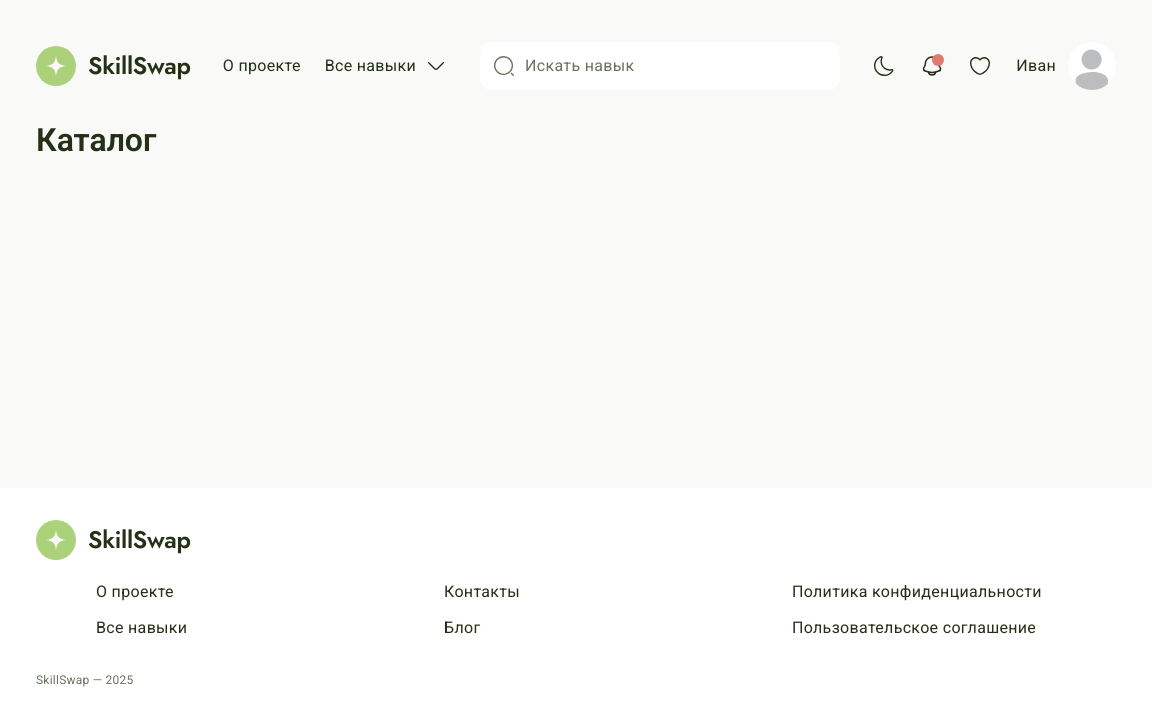
it: MainLayout — уведомления › до открытия панели загружает точку, сохраняет прочтение и очистку после перезагрузки
The image size is (1152, 720).
Later steps or results of the test are not shown.
Expected: the element "Уведомления" is not shown
Step 1. Click the button named "Уведомления, есть новые" → (932, 66), box [920,54,944,78]
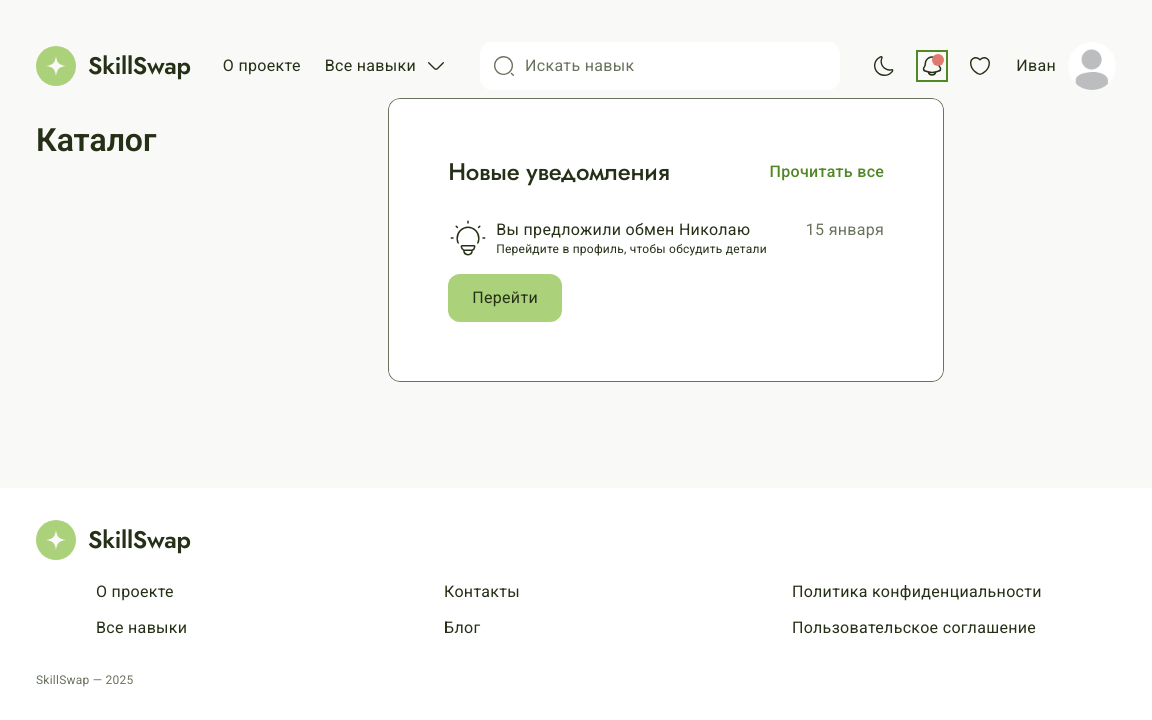
Expected: the text "Вы предложили обмен Николаю" is shown, [496,218,767,242]
Step 2. Click the button "Прочитать все" → (827, 172), box [770,160,884,184]
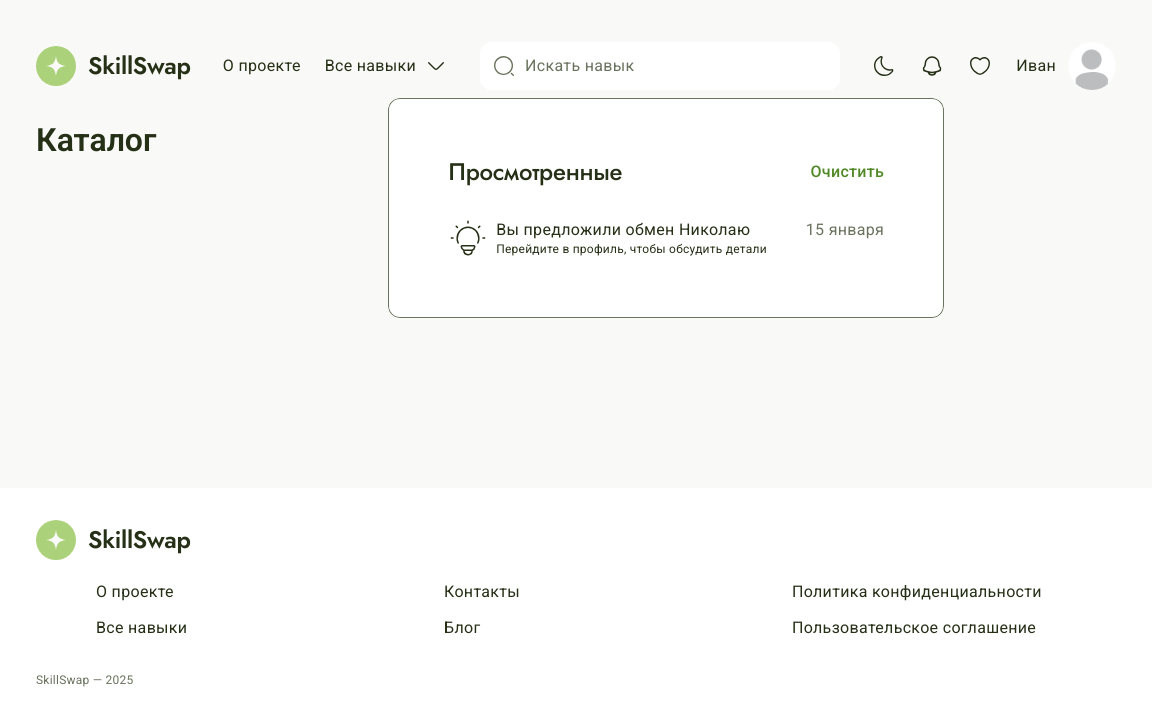
Expected: the button named "Уведомления" is shown, [920,54,944,78]
Expected: the heading "Просмотренные" is shown, [448,158,622,186]
Expected: the button "Перейти" is gone
